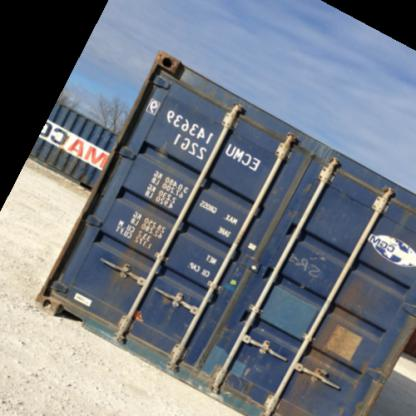Damage: (208, 338, 270, 402), (307, 305, 346, 400), (284, 244, 324, 282), (114, 229, 137, 286), (154, 46, 184, 82), (155, 283, 183, 309), (353, 352, 375, 382), (155, 134, 169, 168)
